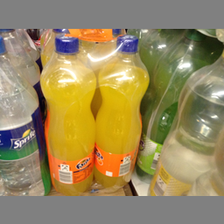soda: (40, 35, 95, 194), (96, 35, 150, 189), (1, 38, 48, 195)
